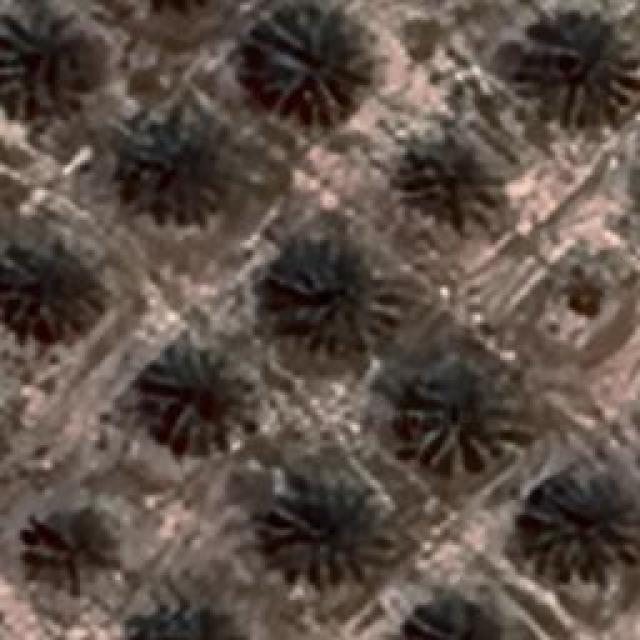PalmTree: (94, 5, 180, 616), (272, 245, 398, 353), (522, 9, 636, 122), (255, 9, 365, 122), (268, 480, 388, 582), (520, 477, 638, 575), (148, 348, 258, 450), (122, 108, 228, 212), (405, 370, 513, 468), (395, 130, 500, 228), (0, 237, 102, 334), (0, 2, 85, 116), (20, 508, 120, 592), (383, 593, 498, 640), (127, 0, 221, 18)
